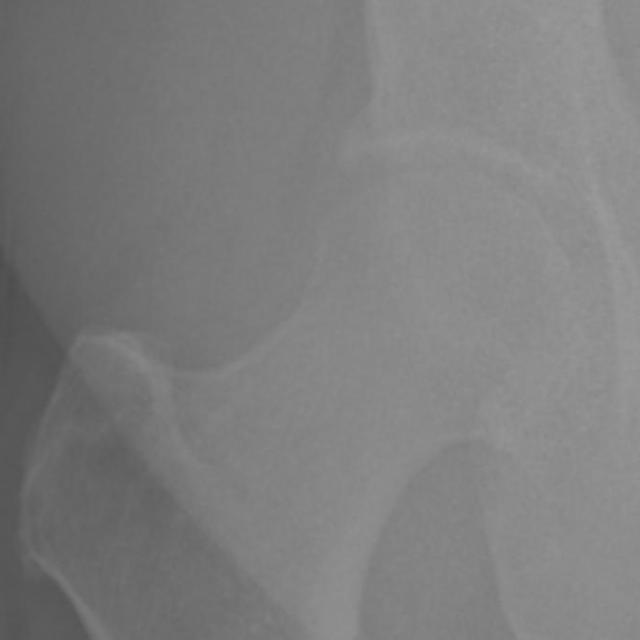Fitted_femural_head: (292, 171, 432, 292)
